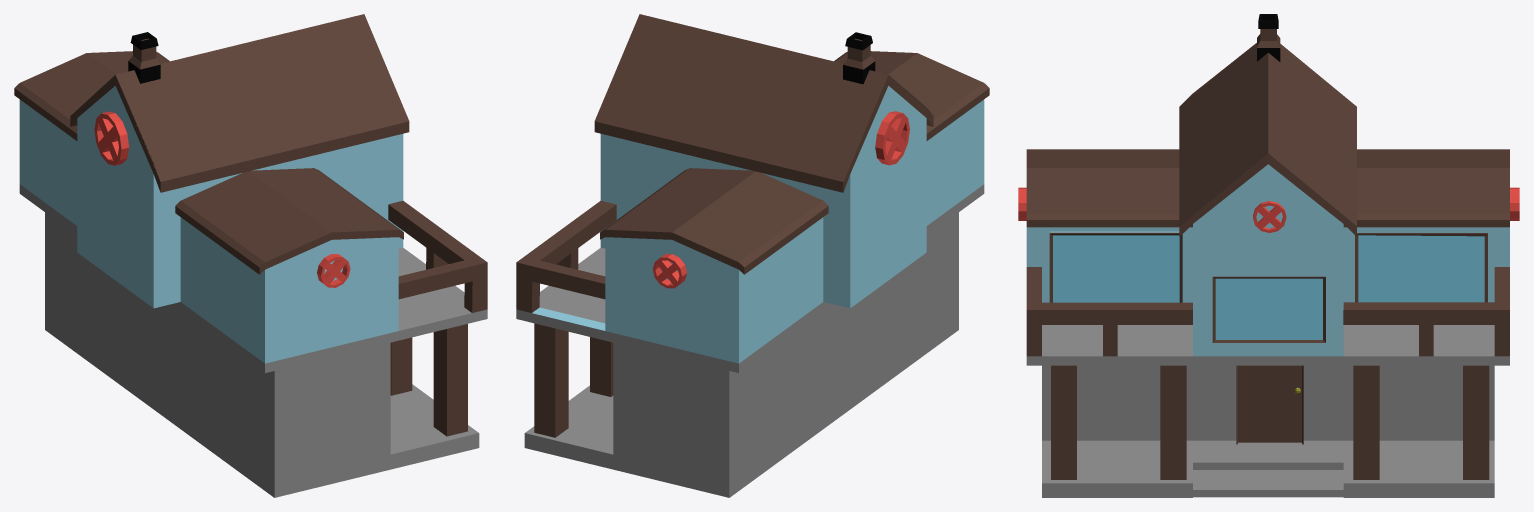
The model's file is HOUSE 1.fbx.
3 views of the same model, side by side, from view 1: azimuth 30°, elevation 25°; view 2: azimuth 150°, elevation 25°; view 3: azimuth 270°, elevation 25° (orthographic).
Visible parts, largest first — view 1: Cube; view 2: Cube; view 3: Cube.
Boxes of the visible parts, box(x1,y1,x2,y2) form: Cube: box(14, 14, 487, 497); Cube: box(516, 14, 989, 497); Cube: box(1018, 14, 1519, 497).
Bounding box in the file's own units: 571 × 794 × 962.
